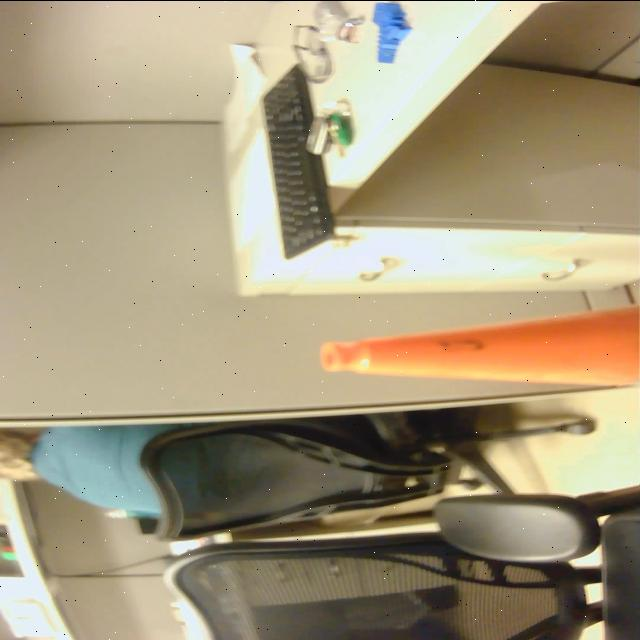traffic cone: (310, 301, 640, 395)
